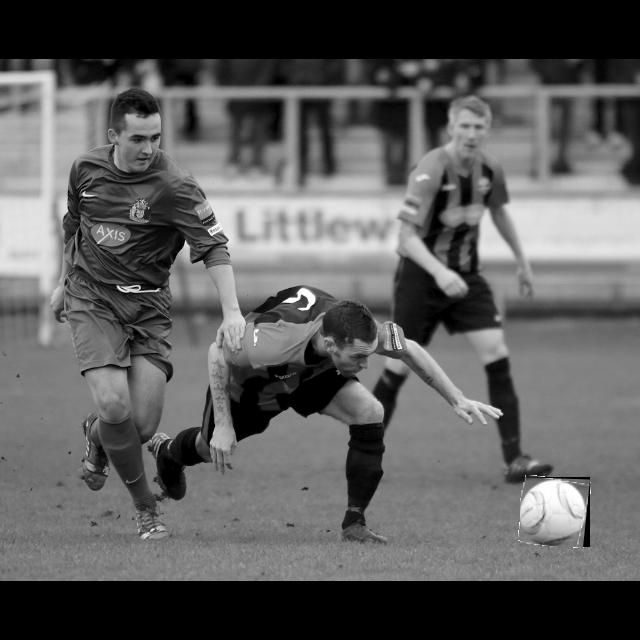Football: (520, 477, 590, 547)
